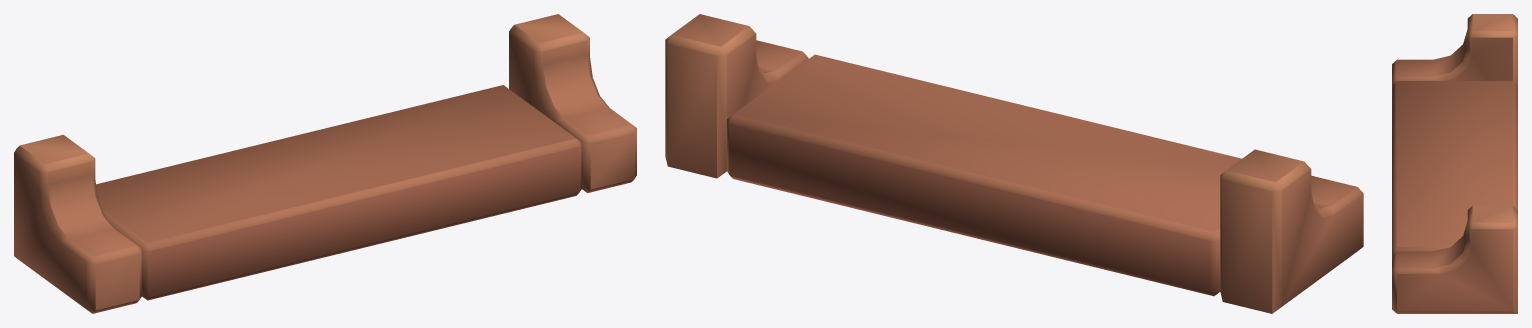
3 views of the same model, side by side, from view 1: azimuth 30°, elevation 25°; view 2: azimuth 150°, elevation 25°; view 3: azimuth 270°, elevation 25° (orthographic). The views are drawn at different scales.
Visible parts, largest first — view 1: shelf_B_large; view 2: shelf_B_large; view 3: shelf_B_large.
Part boxes in pixels (bbox=[...]): shelf_B_large: bbox=[14, 14, 636, 313]; shelf_B_large: bbox=[665, 14, 1363, 313]; shelf_B_large: bbox=[1392, 14, 1517, 313].
Size of the model in its own units: 2 by 0.4 by 0.5.
Materials: 1 (1 with a texture image).
